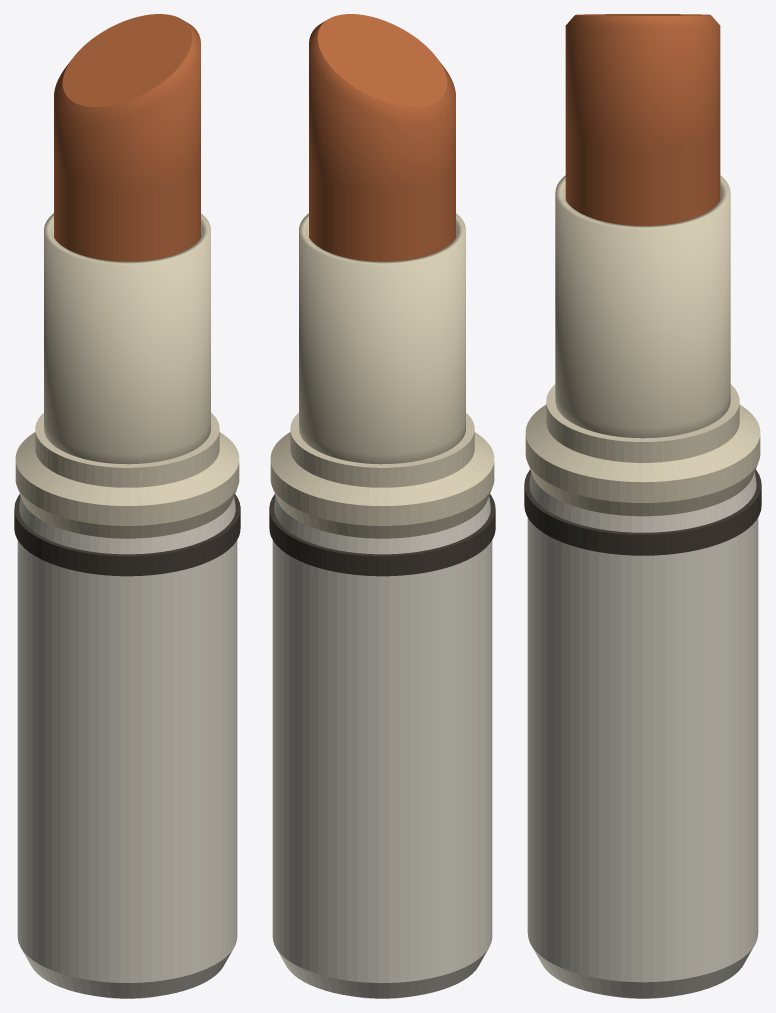
The model's file is A-NEW-20261026-OPEN-LIPSTICK-001_LOD1_R1.glb.
3 views of the same model, side by side, from view 1: azimuth 30°, elevation 25°; view 2: azimuth 150°, elevation 25°; view 3: azimuth 270°, elevation 25° (orthographic). The views are drawn at different scales.
Parts seen in each view (by area): view 1: rounded lipstick base, open inner sleeve, slanted rounded lipstick bullet, stepped metallic collar, contrasting trim; view 2: rounded lipstick base, open inner sleeve, slanted rounded lipstick bullet, stepped metallic collar, contrasting trim; view 3: rounded lipstick base, open inner sleeve, slanted rounded lipstick bullet, stepped metallic collar, contrasting trim.
Boxes of the visible parts, left/top/right/bottom form: rounded lipstick base: left=17, top=496, right=237, bottom=998; open inner sleeve: left=44, top=213, right=210, bottom=464; slanted rounded lipstick bullet: left=54, top=14, right=200, bottom=261; stepped metallic collar: left=15, top=412, right=239, bottom=538; contrasting trim: left=14, top=494, right=240, bottom=576; rounded lipstick base: left=272, top=496, right=492, bottom=998; open inner sleeve: left=299, top=213, right=465, bottom=464; slanted rounded lipstick bullet: left=309, top=14, right=455, bottom=261; stepped metallic collar: left=270, top=412, right=494, bottom=538; contrasting trim: left=269, top=494, right=495, bottom=576; rounded lipstick base: left=527, top=472, right=758, bottom=998; open inner sleeve: left=555, top=175, right=730, bottom=438; slanted rounded lipstick bullet: left=565, top=14, right=720, bottom=225; stepped metallic collar: left=525, top=384, right=760, bottom=516; contrasting trim: left=524, top=469, right=761, bottom=555.
Bounding box in the file's own units: 0.0206 × 0.0937 × 0.0206.
